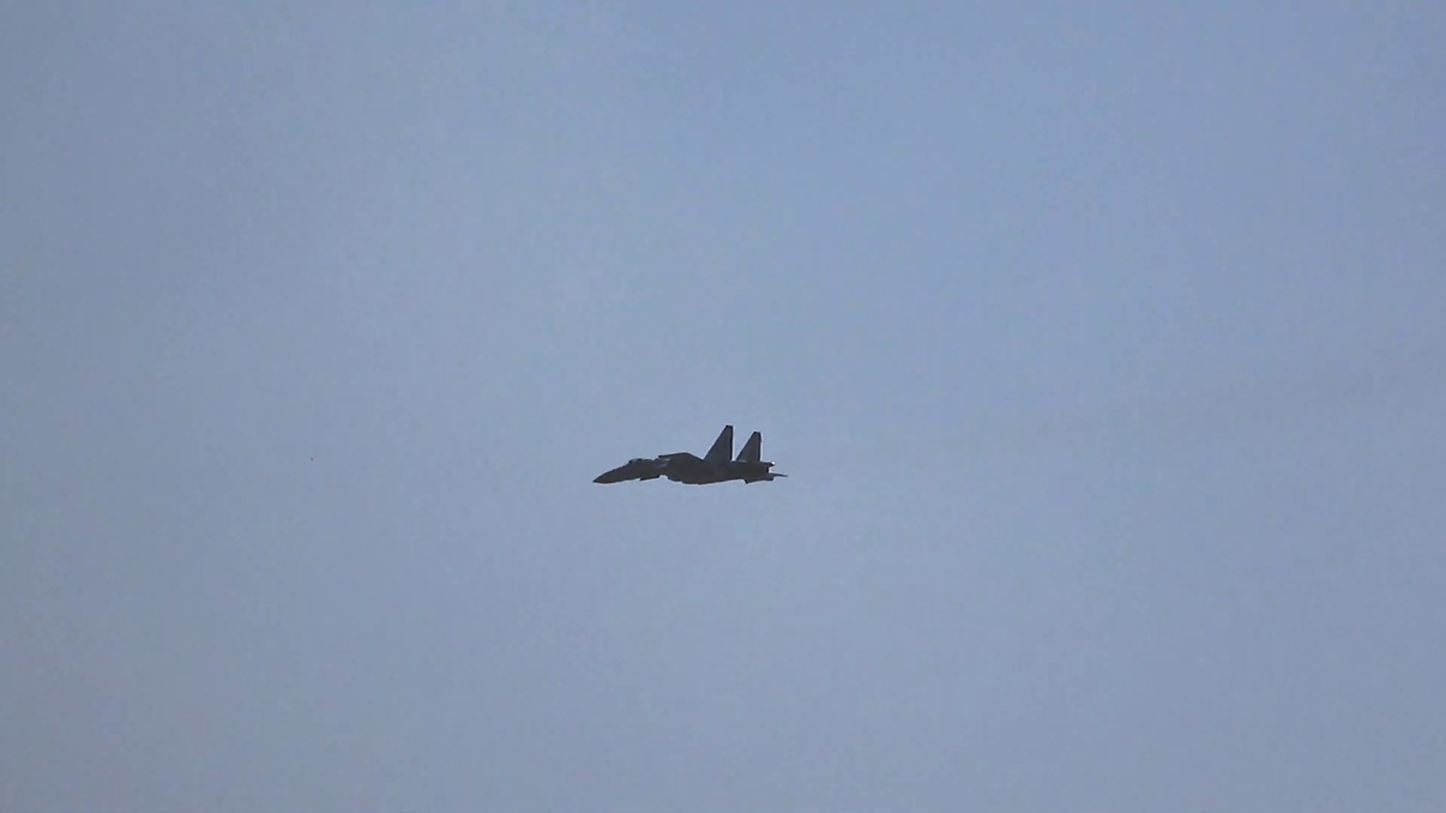Su35: (592, 424, 789, 484)
